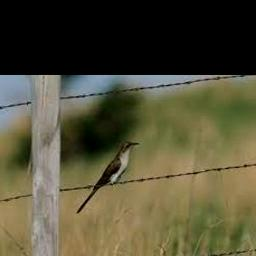Cuckoo: (77, 141, 141, 214)
